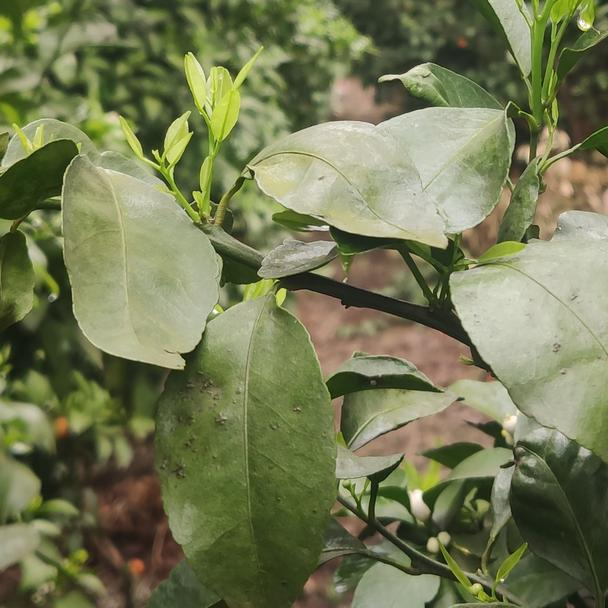shoot: (182, 52, 264, 186), (120, 114, 190, 183)
